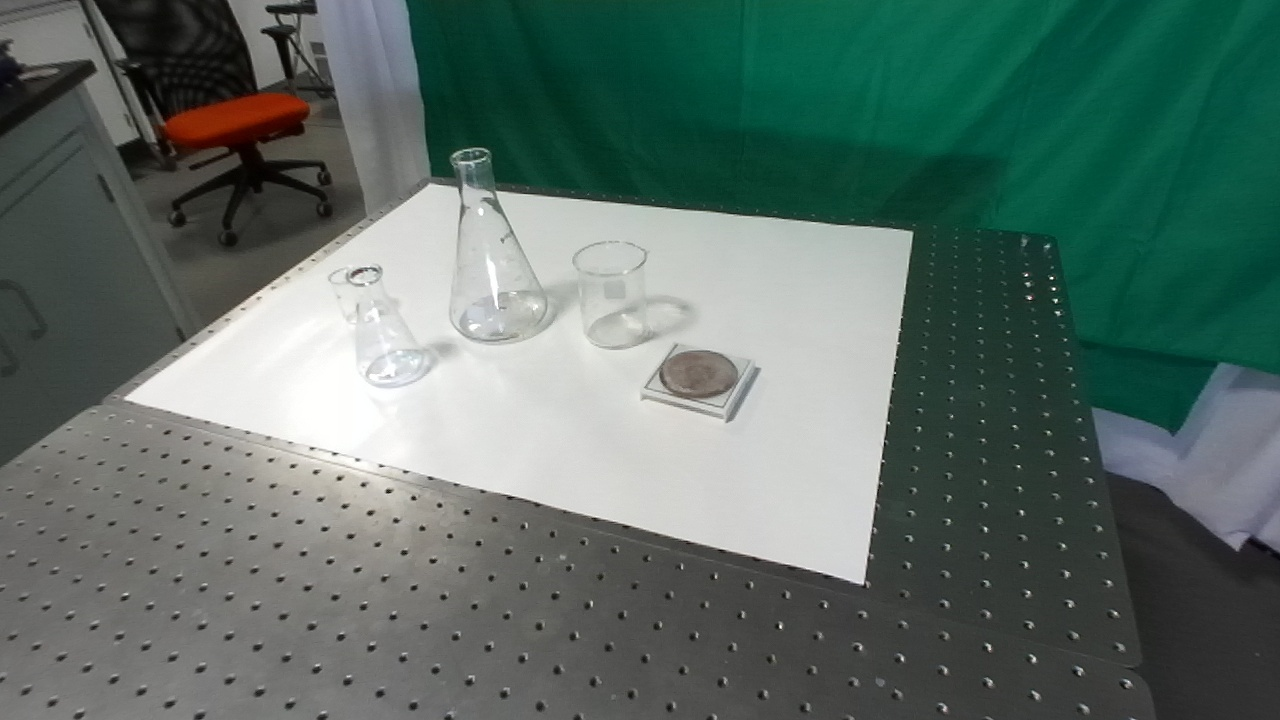glass: (441, 141, 553, 349), (342, 260, 431, 393), (570, 236, 653, 355), (327, 264, 367, 329)
plate: (637, 338, 759, 427)
